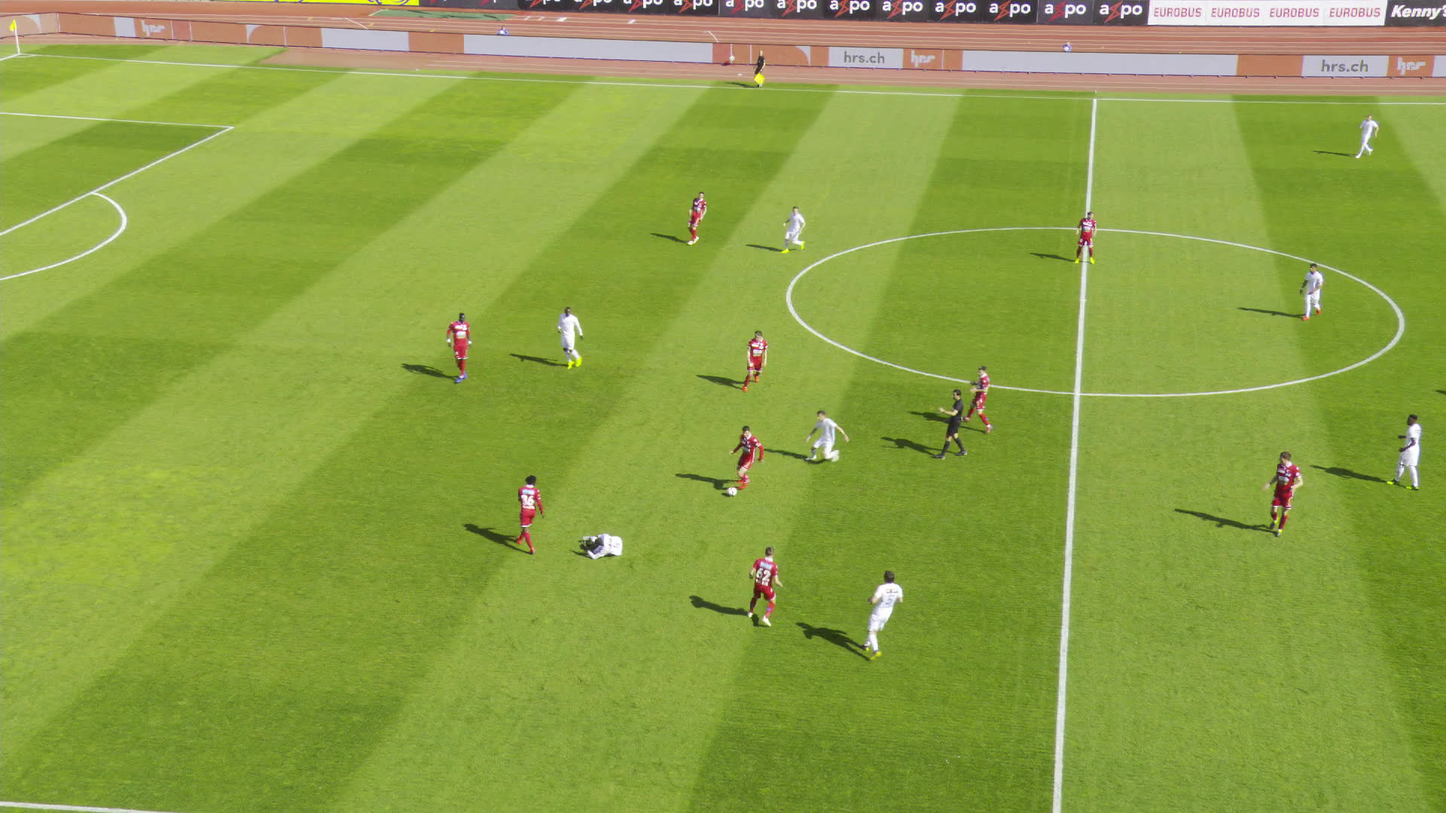ball: (727, 487, 737, 496)
player: (860, 570, 903, 661), (1261, 450, 1303, 536), (745, 546, 782, 626), (1386, 413, 1422, 489), (514, 473, 545, 554), (728, 425, 764, 489), (804, 410, 849, 461), (960, 365, 992, 433), (445, 312, 473, 382), (557, 306, 584, 369), (741, 330, 767, 392), (1299, 263, 1323, 320), (1074, 211, 1097, 263), (780, 206, 805, 253), (686, 190, 706, 245), (581, 533, 622, 559), (1355, 114, 1379, 158)
referee: (932, 388, 966, 459), (752, 50, 764, 87)
